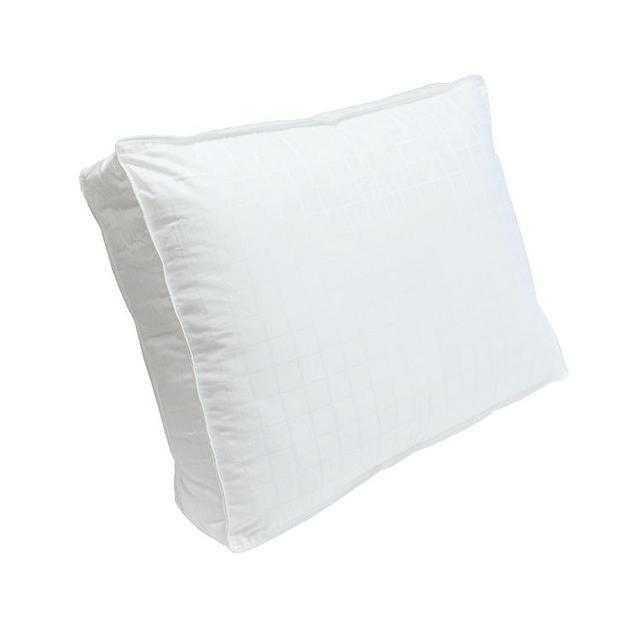pillow: (78, 72, 568, 552)
